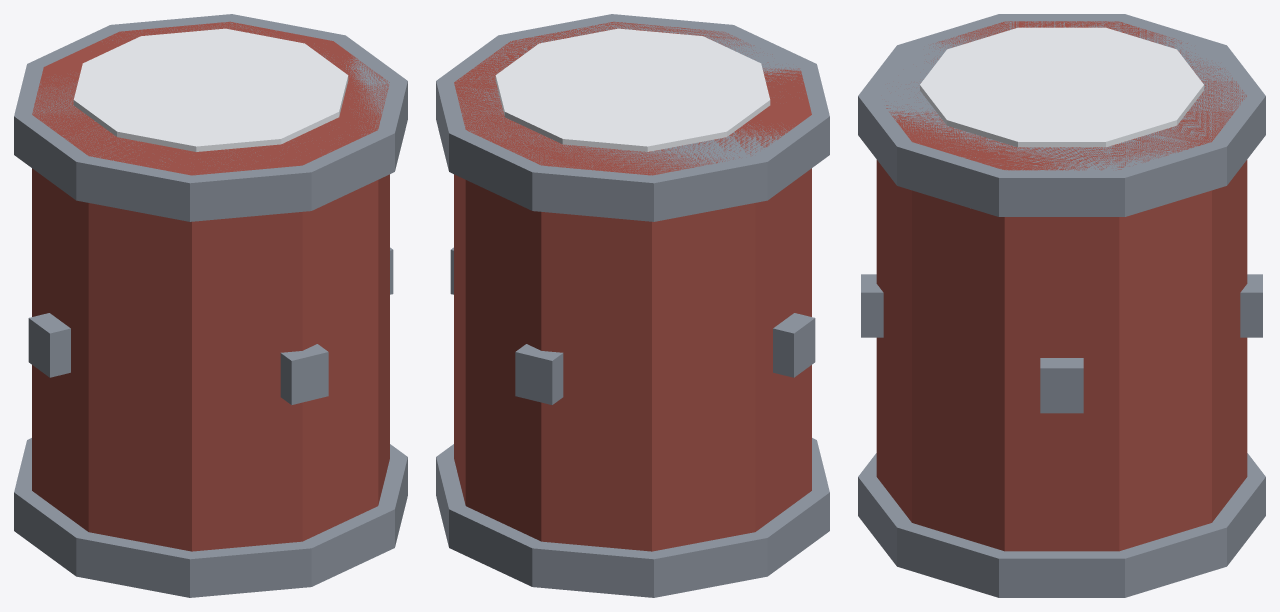
Rendered from toy_drum.fbx.
3 renders of one model, left to right at view 1: azimuth 30°, elevation 25°; view 2: azimuth 150°, elevation 25°; view 3: azimuth 270°, elevation 25°, orthographic.
Visible parts, largest first — view 1: toy_drum; view 2: toy_drum; view 3: toy_drum.
Boxes of the visible parts, x1,y1,x2,y2 form: toy_drum: (14, 14, 407, 597); toy_drum: (436, 14, 829, 597); toy_drum: (858, 14, 1265, 597).
Bounding box in the file's own units: 186 × 220 × 189.
